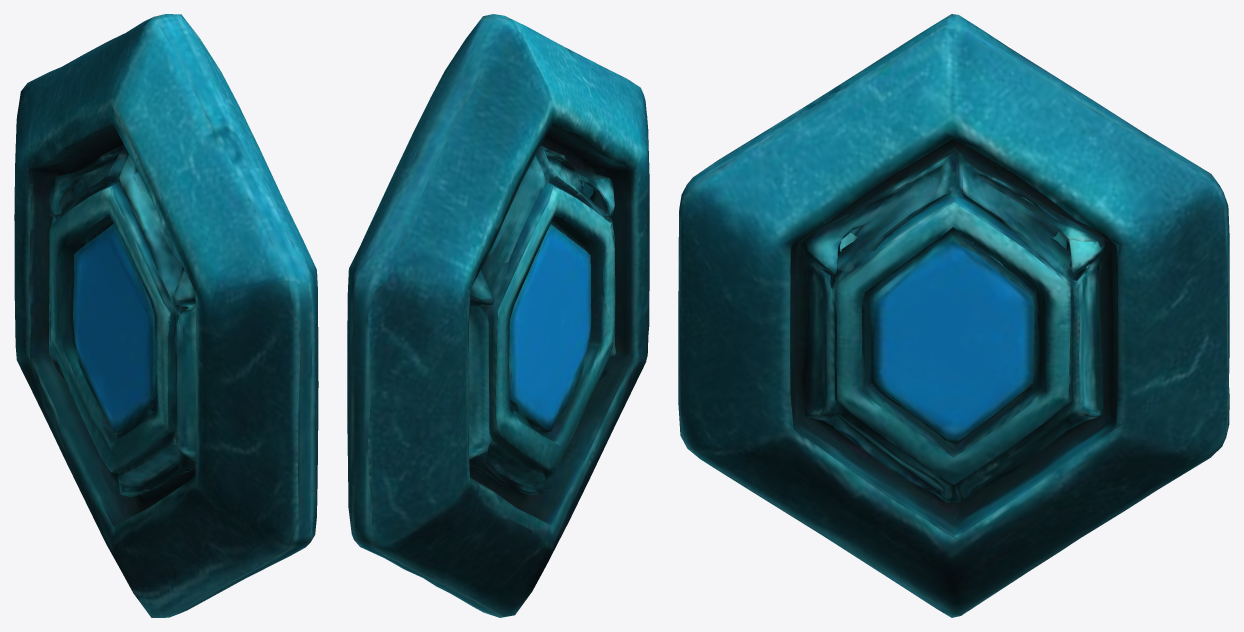
Rendered from fs_coolant_rune.glb.
The picture shows the model from 3 angles, left to right: view 1: azimuth 30°, elevation 25°; view 2: azimuth 150°, elevation 25°; view 3: azimuth 270°, elevation 25°; orthographic projection.
Visible parts, largest first — view 1: geometry_0; view 2: geometry_0; view 3: geometry_0.
Part boxes in pixels (<box>): geometry_0: <box>14,14,318,617</box>; geometry_0: <box>347,14,649,617</box>; geometry_0: <box>678,14,1229,617</box>.
Bounding box in the file's own units: 0.2045 × 1 × 0.8436.
Materials: 1 (1 with a texture image).
